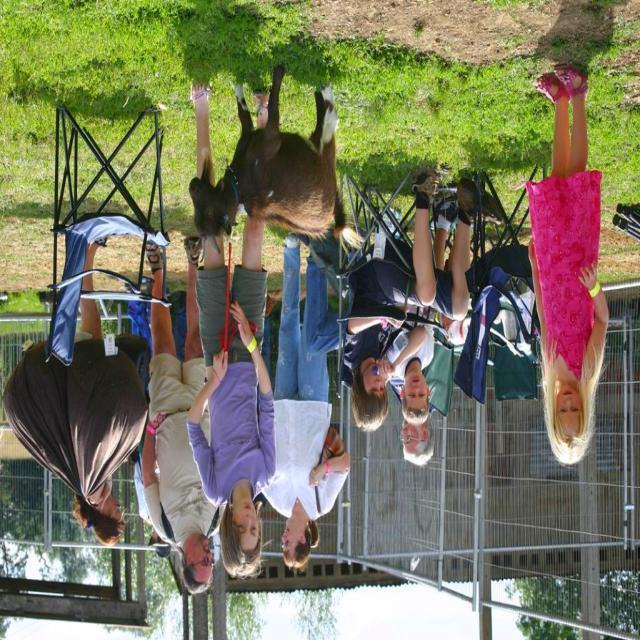Goat: (189, 65, 367, 254)
